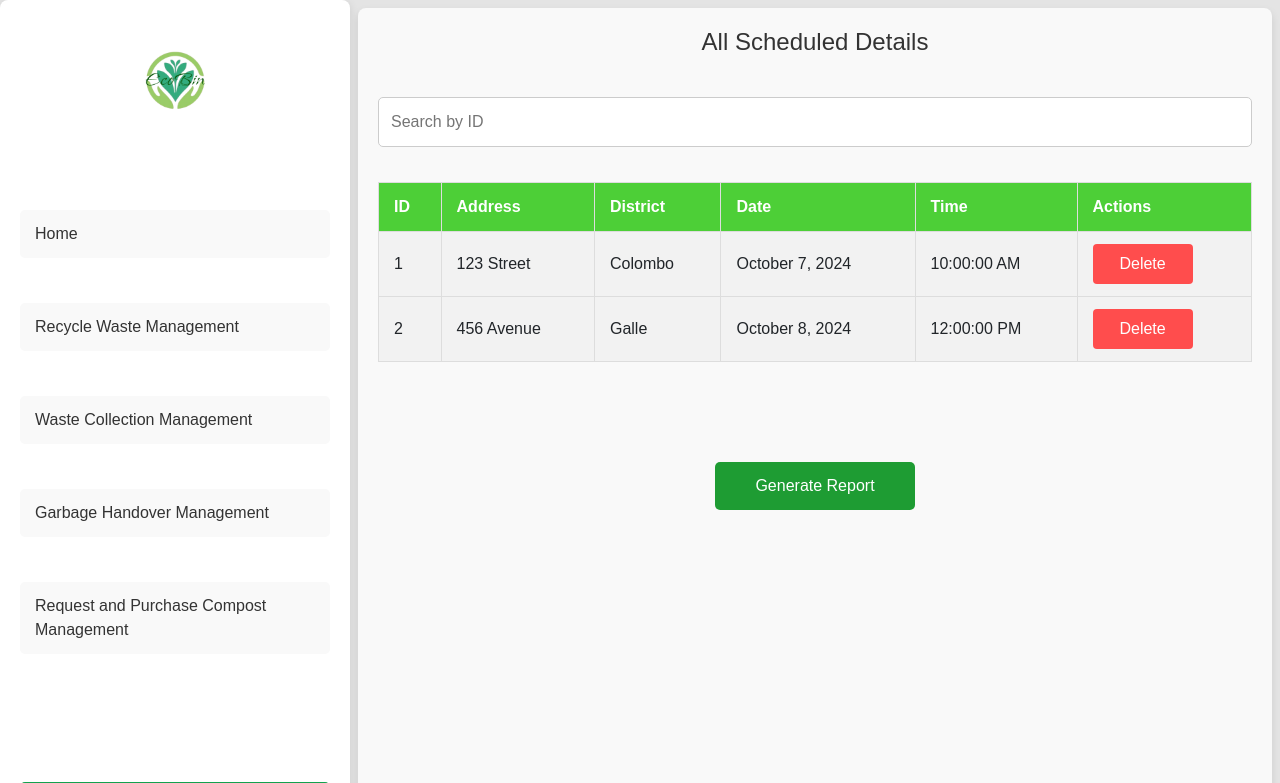
SeeSchedule Component › displays an error message when deleting a schedule fails
Note: Simulate clicking the delete button for the first schedule
Step 1. Click the button "Delete" in the row of "123 Street" → (1143, 264), box x1=1093 y1=244 x2=1193 y2=284
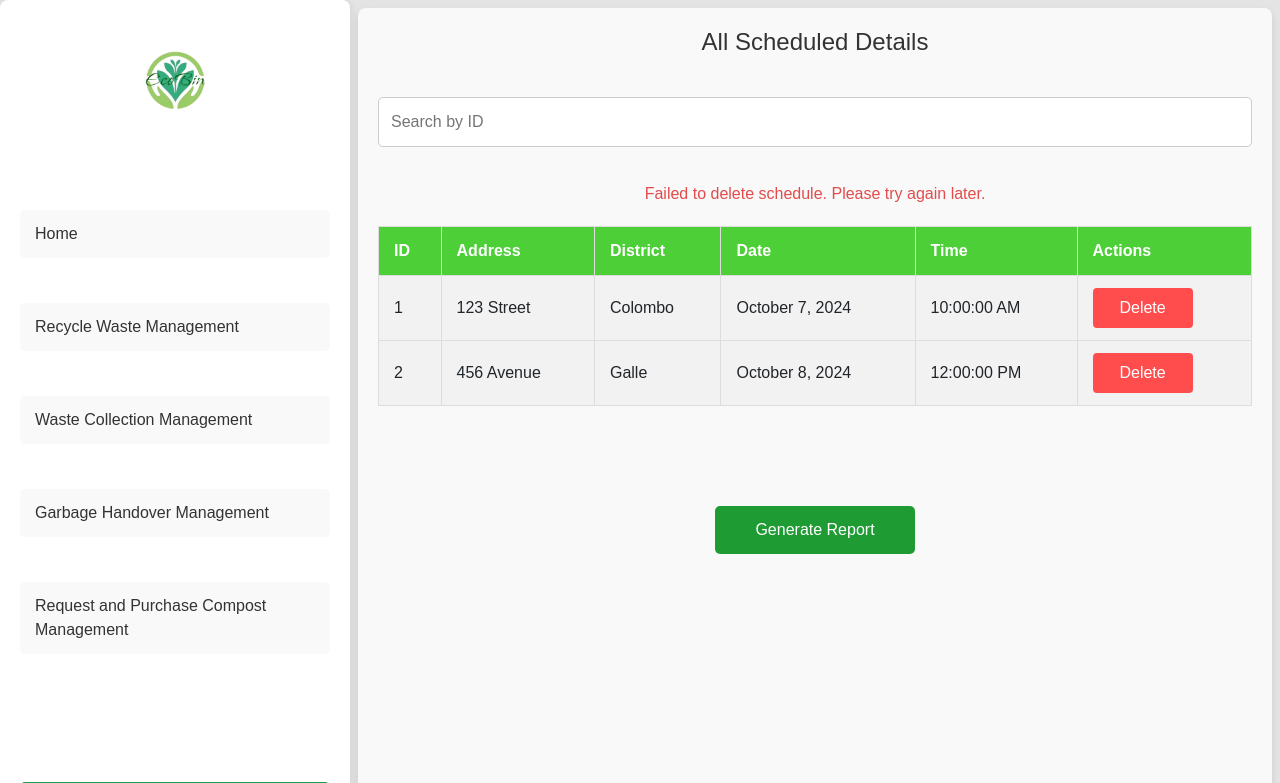
Now the text "Failed to delete schedule. Please try again later." is shown, box x1=645 y1=185 x2=985 y2=202
